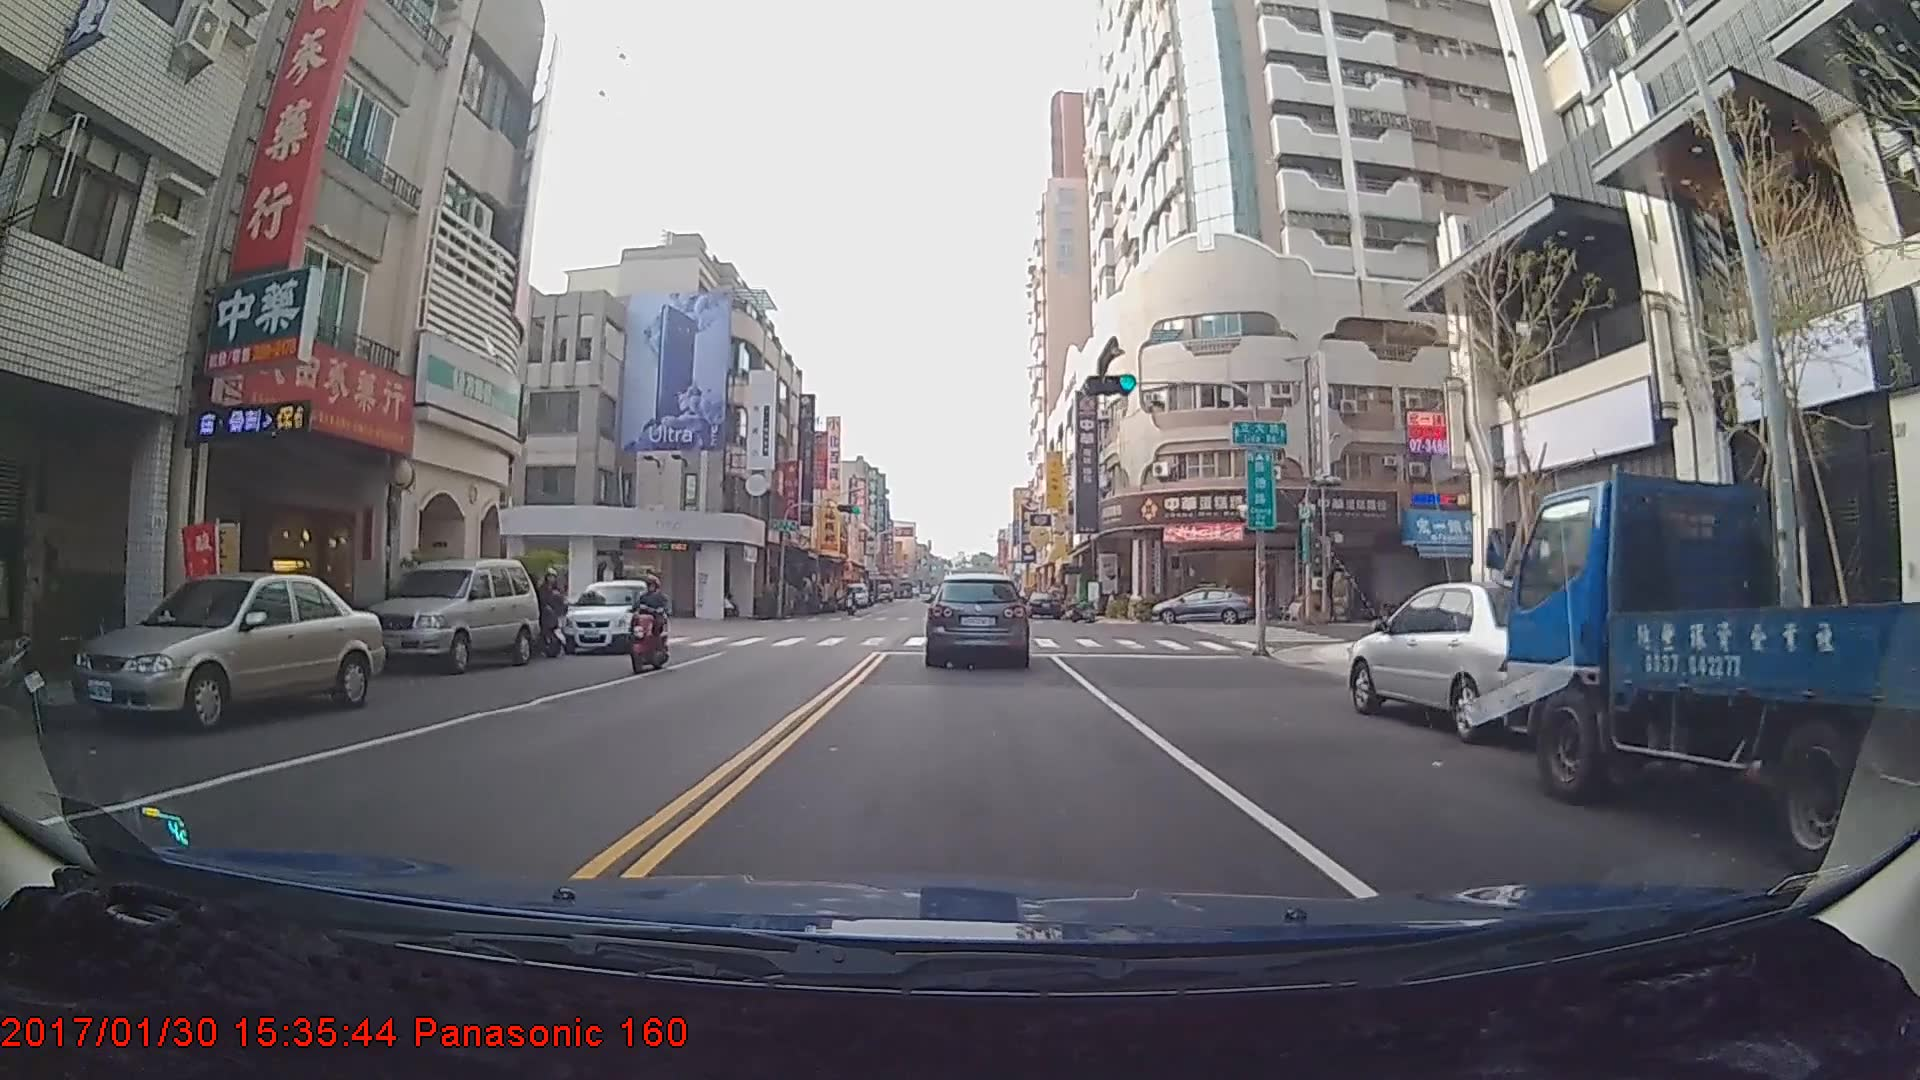rider: (619, 576, 667, 677), (839, 584, 860, 618)
vehicle: (1504, 470, 1920, 875), (71, 572, 377, 735), (1346, 579, 1613, 744), (361, 555, 540, 673), (924, 573, 1030, 668), (560, 577, 664, 653), (1150, 586, 1255, 624), (1023, 589, 1061, 619), (842, 580, 866, 608)
